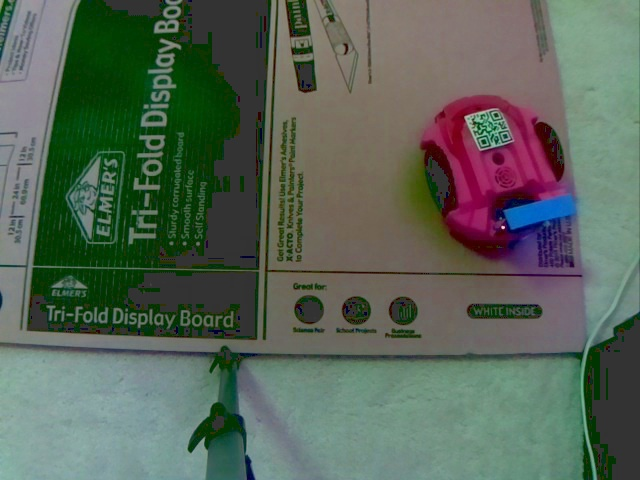board: (490, 190, 577, 240)
chassis: (418, 91, 577, 251)
